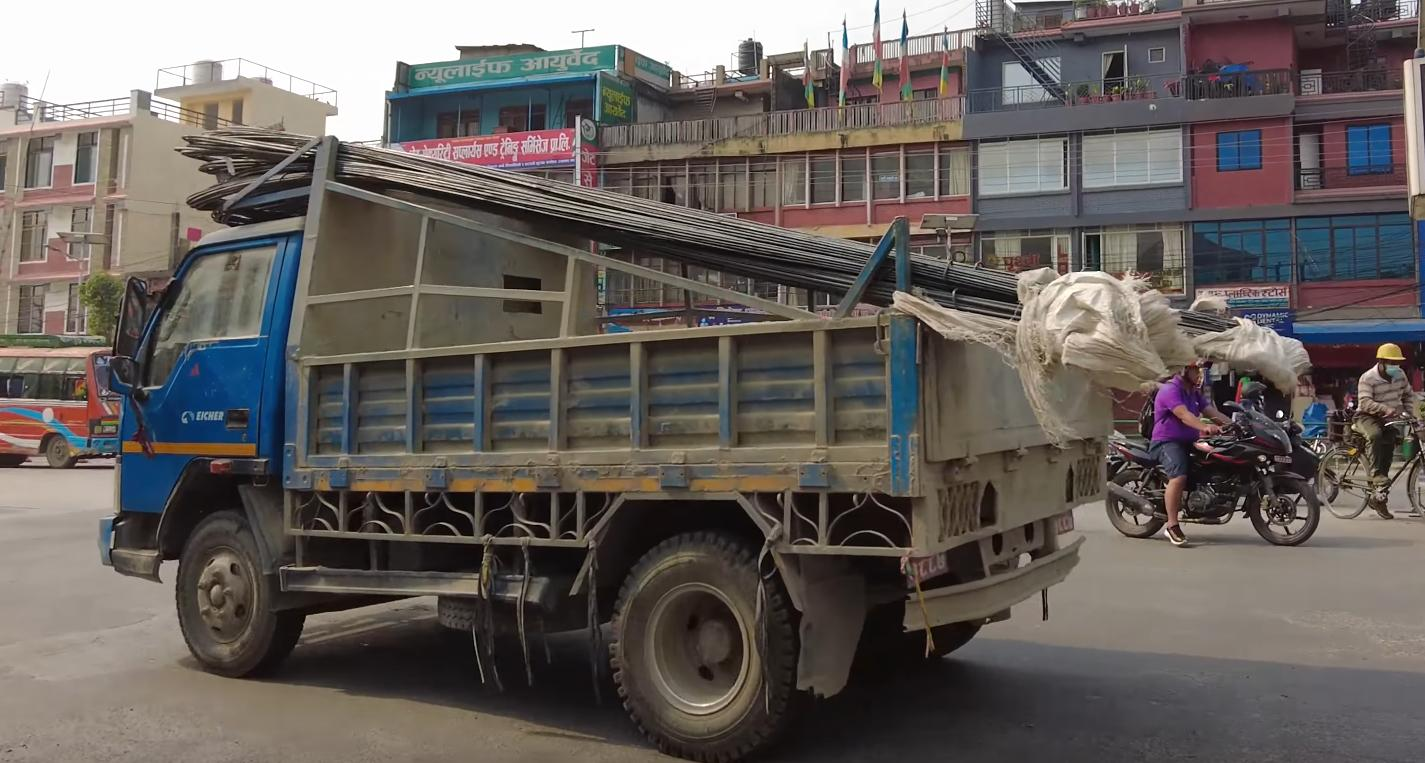bike: (1105, 380, 1326, 545)
bus: (0, 339, 145, 472)
mini_truck: (86, 124, 1141, 763)
